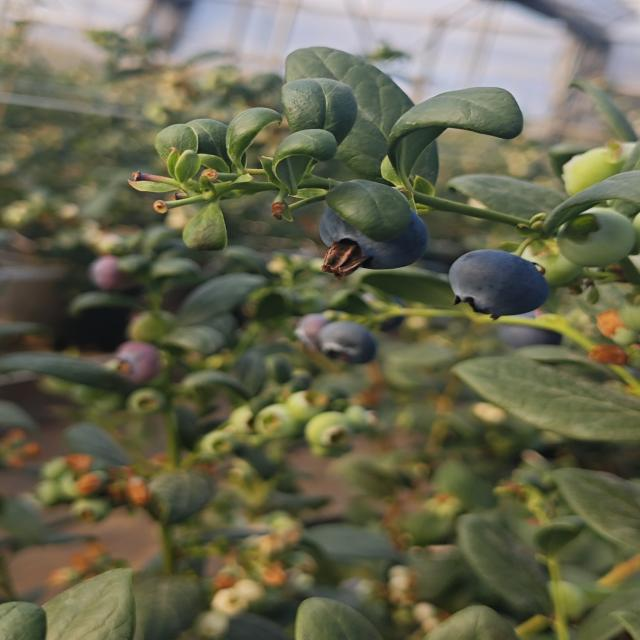ripe: (309, 184, 437, 273), (434, 241, 548, 317), (491, 316, 569, 361), (306, 319, 380, 363)
